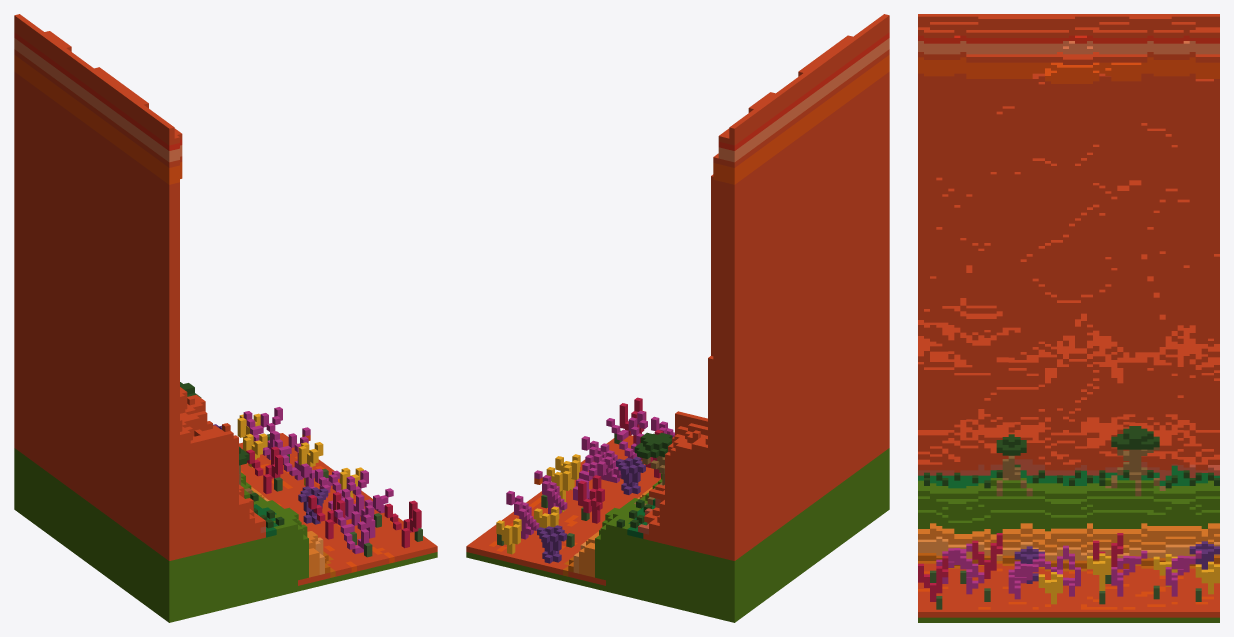
File: western18.obj
The picture shows the model from 3 angles, left to right: view 1: azimuth 30°, elevation 25°; view 2: azimuth 150°, elevation 25°; view 3: azimuth 270°, elevation 25°; orthographic projection. The views are drawn at different scales.
Bounding box in the file's own units: 5 × 8.8 × 5.
Materials: 1 (1 with a texture image).
